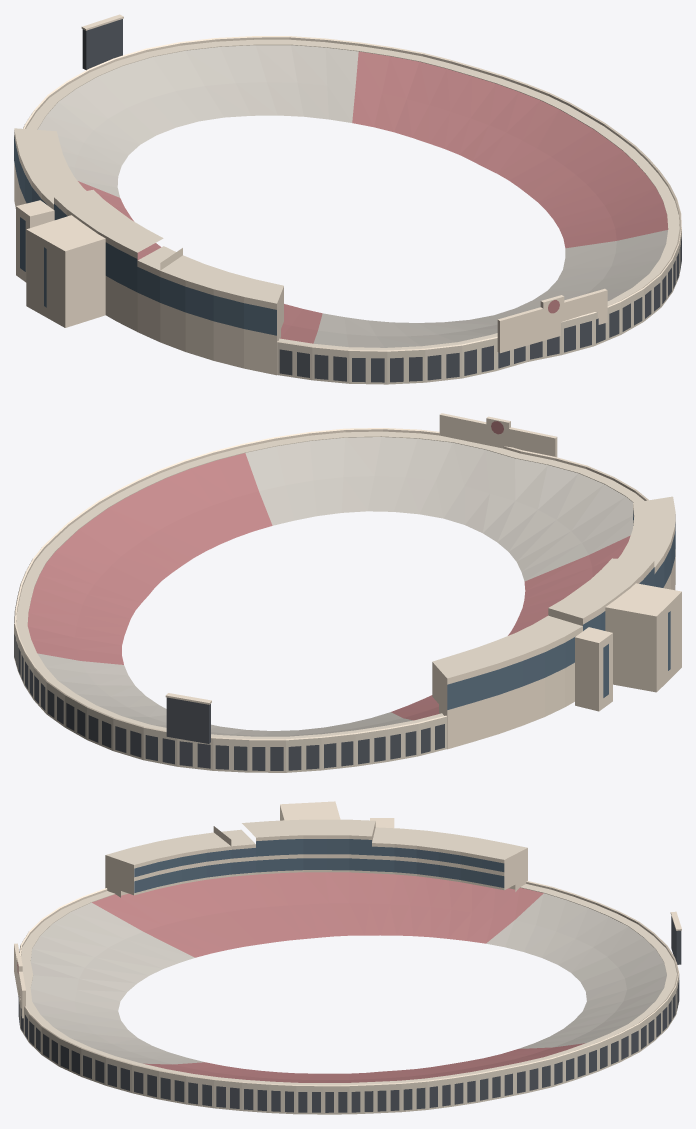
Rendered from la-rose-bowl.glb.
3 renders of one model, top to bottom at view 1: azimuth 30°, elevation 25°; view 2: azimuth 150°, elevation 25°; view 3: azimuth 270°, elevation 25°, orthographic. The views are drawn at different scales.
Parts seen in each view (by area): view 1: Rose Bowl; view 2: Rose Bowl; view 3: Rose Bowl.
Part boxes in pixels (x1,y1,x2,y2): Rose Bowl: [14, 14, 681, 384]; Rose Bowl: [14, 413, 681, 772]; Rose Bowl: [14, 801, 681, 1114].
Bounding box in the file's own units: 241 × 31 × 275.
